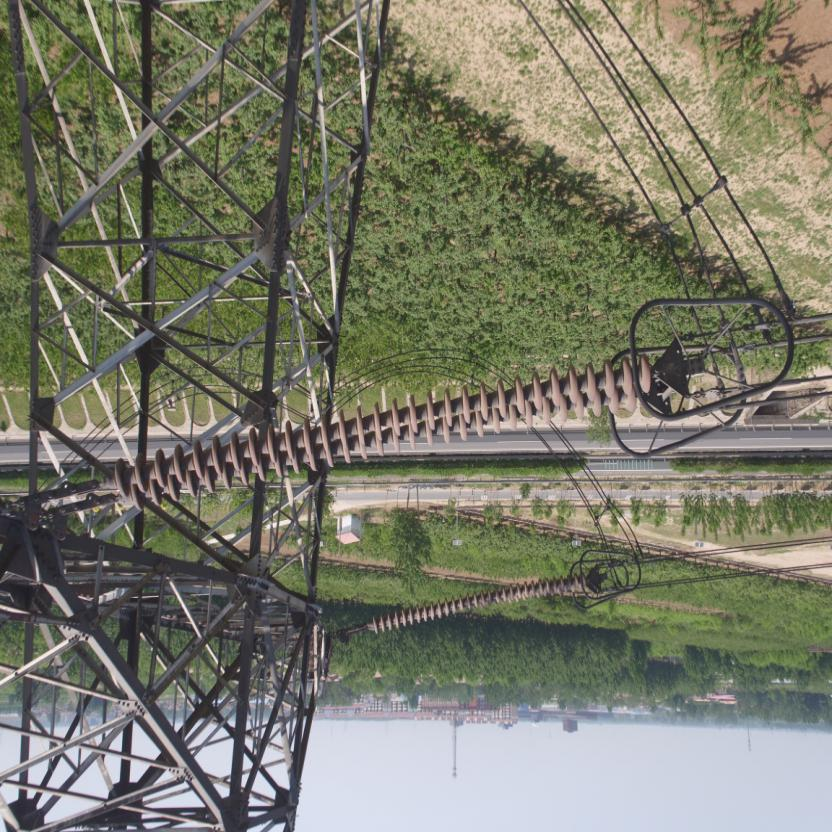insulator: (72, 354, 670, 516), (356, 570, 590, 638)
